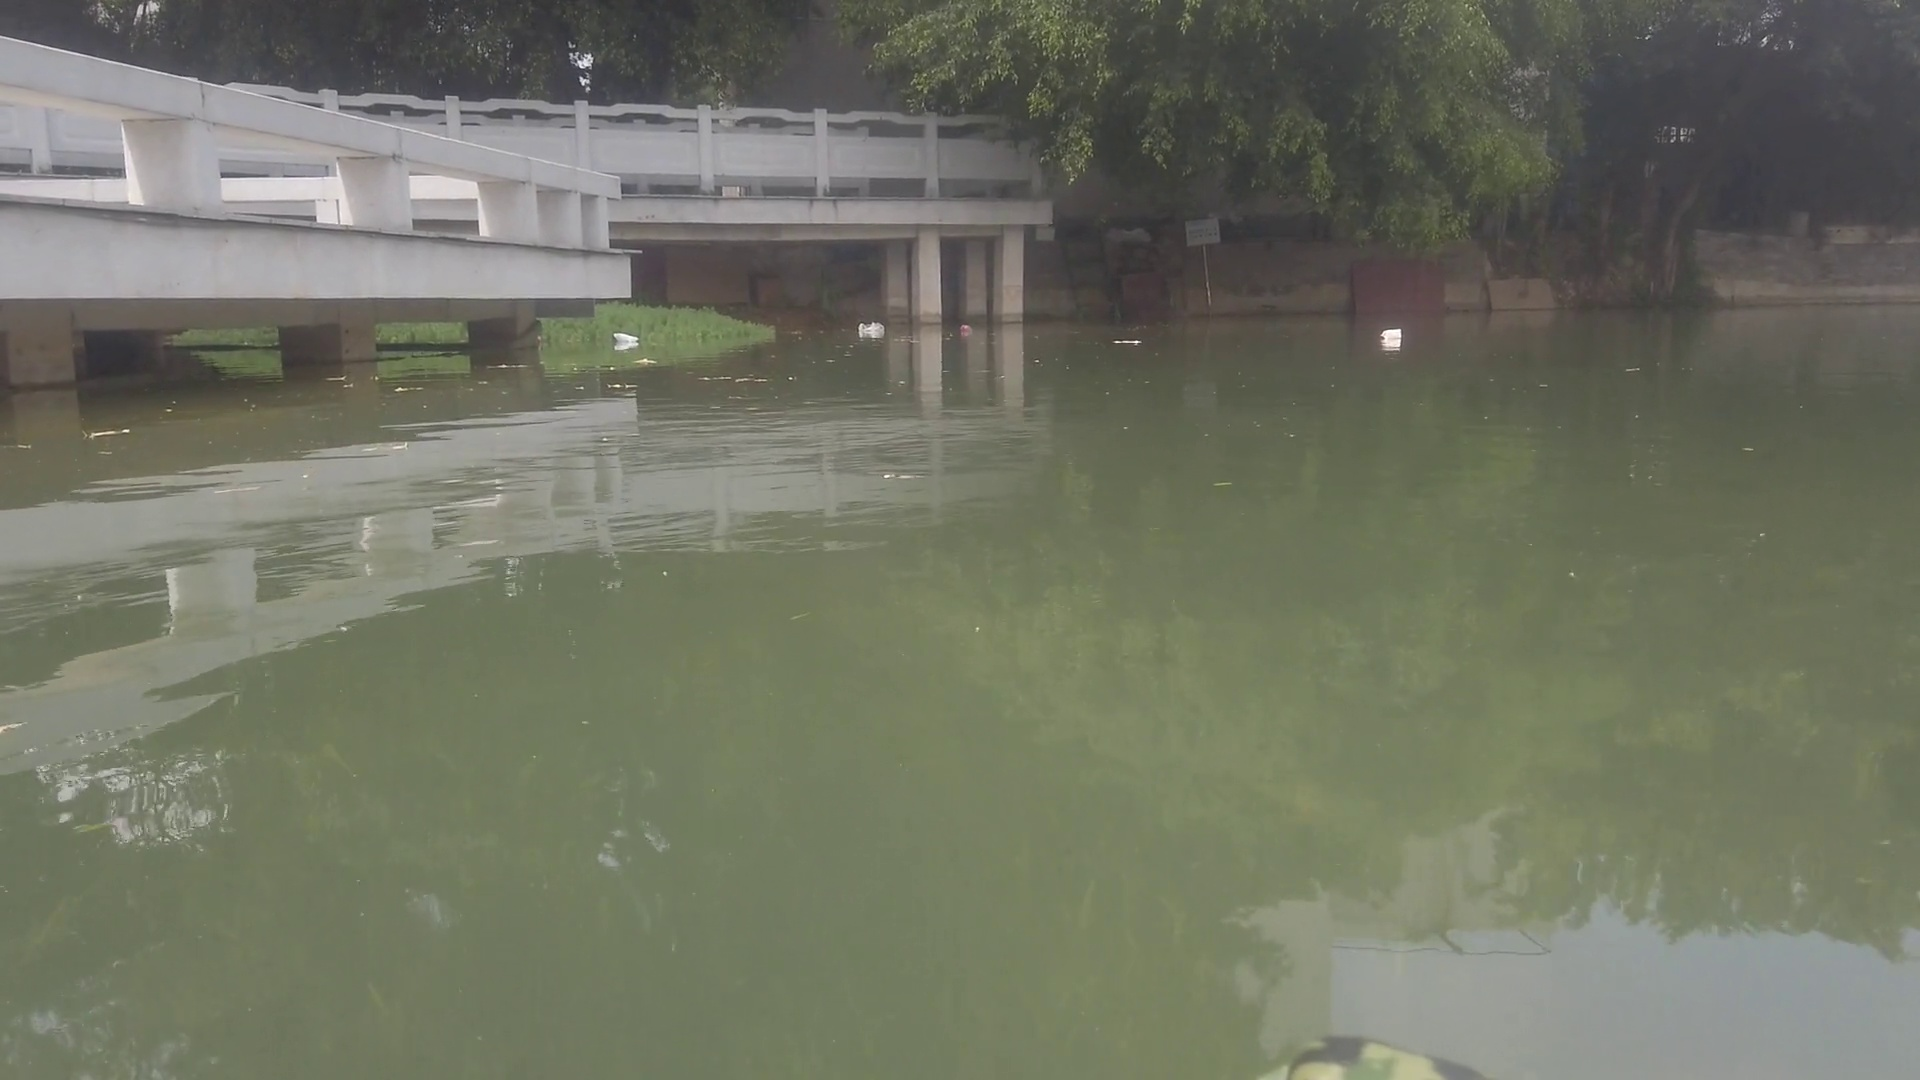bottle: (956, 323, 976, 334)
carton: (1377, 326, 1403, 340)
paper: (1116, 334, 1145, 348), (632, 356, 659, 367)
plastic: (851, 316, 885, 338), (613, 334, 641, 344)
